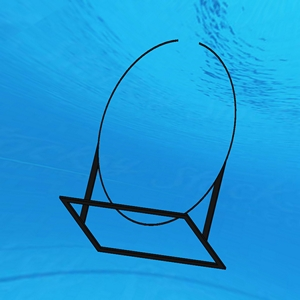circle: (59, 36, 238, 270)
